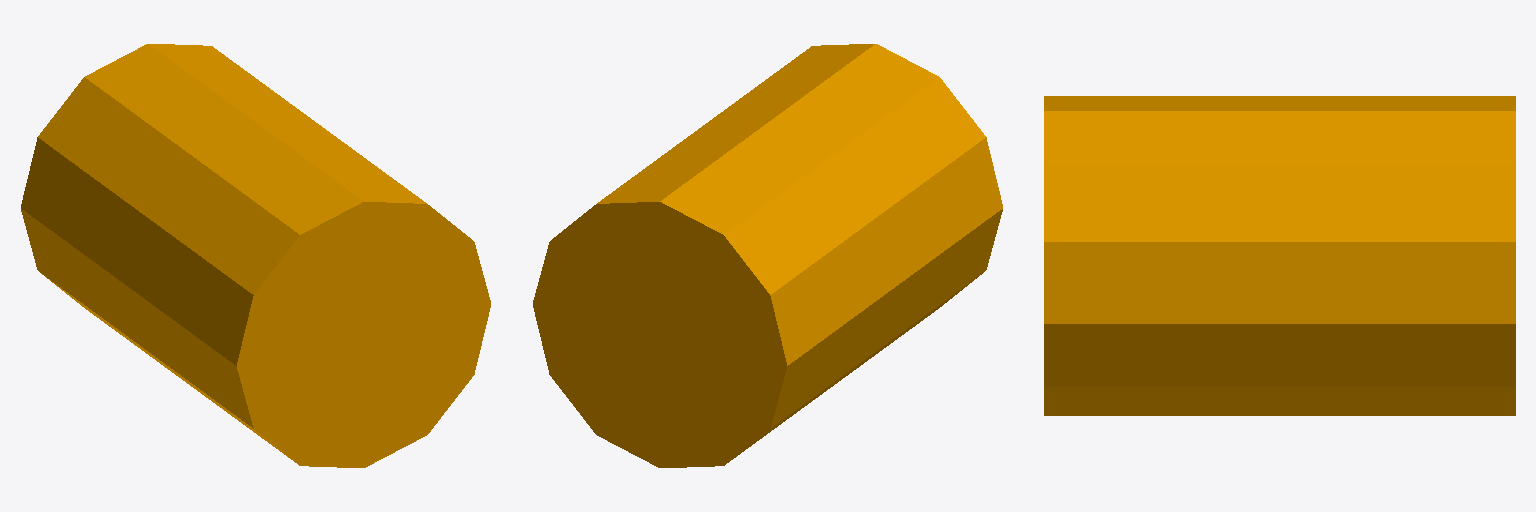
URDF robot description (tomato_soup_can):
<?xml version="1.0" ?>
<robot name="tomato_soup_can" xmlns:xacro="http://www.ros.org/wiki/xacro">
    <link name="tomato_soup_can">
        <inertial>
            <origin rpy="0 0 0.0" xyz="-0.2 -0.2 0.03"/>
            <mass value="1."/>
            <inertia ixx="0.03" ixy="0" ixz="0" iyy="0.00" iyz="0" izz="0.03"/>
        </inertial>
        <visual>
            <origin rpy="0 0 0.0" xyz="-0.2 -0.2 0.03"/>
            <geometry>
                <mesh filename="package://kuka_gripper_description/meshes/tomato.obj"/>
            </geometry>
        </visual>
        <collision>
            <origin rpy="0 0 0.0" xyz="-0.2 -0.2 0.03"/>
            <geometry>
                <mesh filename="package://kuka_gripper_description/meshes/tomato.obj"/>
            </geometry>
        </collision>
    </link>
</robot>

--- What the picture shows (computed from the rendered views, not written in the file) ---
The picture shows the robot from 3 angles, left to right: view 1: azimuth 30°, elevation 25°; view 2: azimuth 150°, elevation 25°; view 3: azimuth 270°, elevation 25°; orthographic projection.
Model tomato_soup_can with 1 links and 0 joints (none), rooted at tomato_soup_can, posed every joint at zero.
Links seen in each view (by area): view 1: tomato_soup_can; view 2: tomato_soup_can; view 3: tomato_soup_can.
Boxes of the visible links, <box> form: tomato_soup_can: <box>21,44,490,467</box>; tomato_soup_can: <box>533,44,1002,467</box>; tomato_soup_can: <box>1044,96,1515,415</box>.
Bounding box of the posed robot: 0.0724 × 0.1063 × 0.0724 m (x, y, z).
Meshes: 1 distinct files referenced, 1 mesh visuals loaded (1 OBJ).
